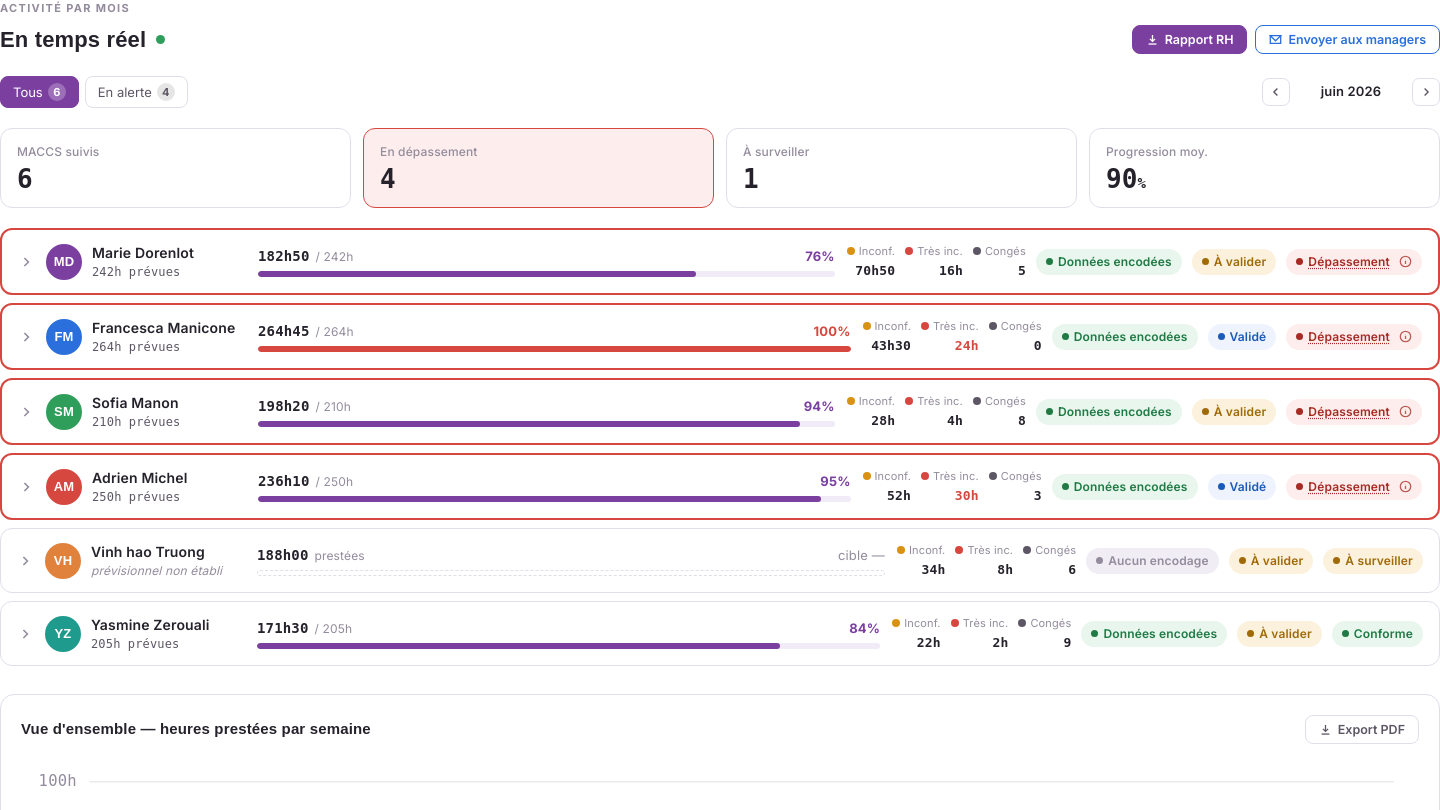
Test: Boutons Export / Rapport RH / Envoyer › cliquer 'Envoyer aux managers' ouvre la ReportModal
Click the button with test id "btn-send-report" at (1348, 39), box [1256,24,1439,54]
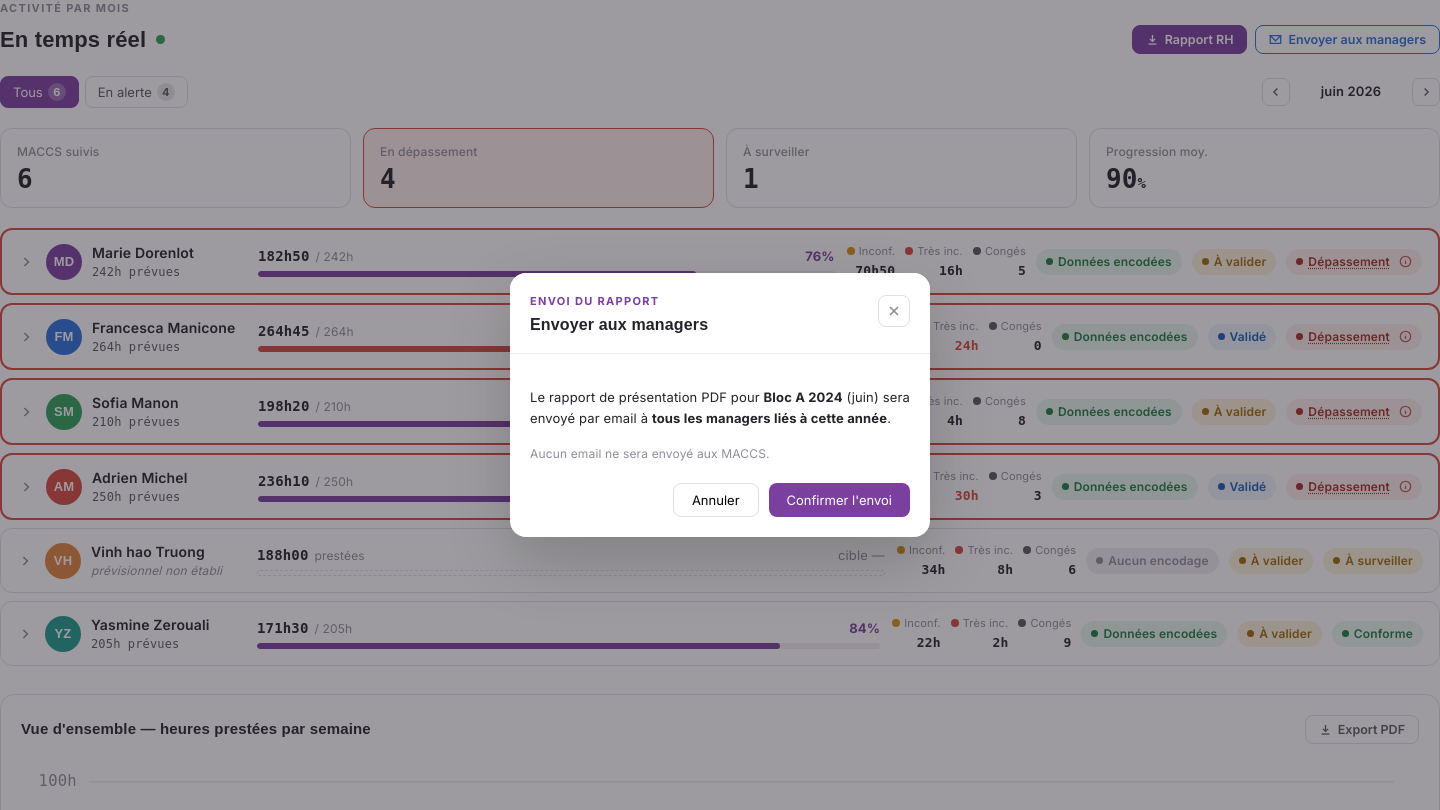
Now the element with test id "report-confirm-modal" is shown, box [510,273,930,537]
